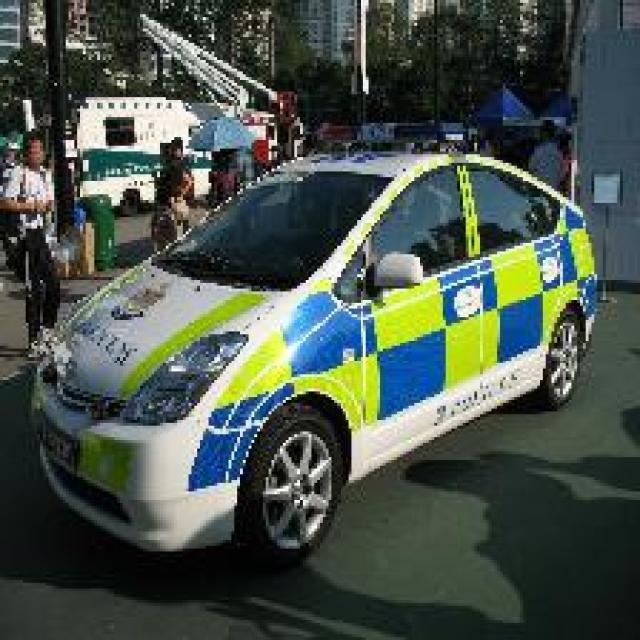emergency: (26, 138, 600, 566)
